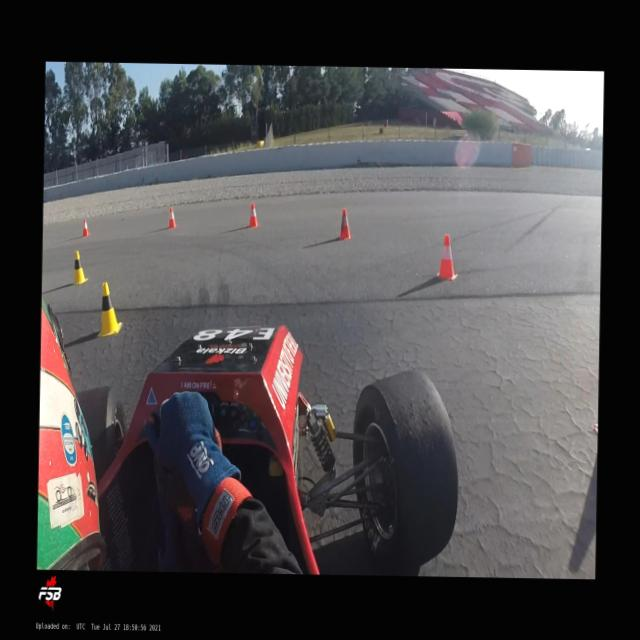orange_cone: (436, 233, 458, 280), (337, 208, 353, 240), (248, 202, 260, 228), (168, 206, 178, 228), (82, 218, 90, 238)
yellow_cone: (96, 281, 122, 337), (72, 250, 89, 285)
